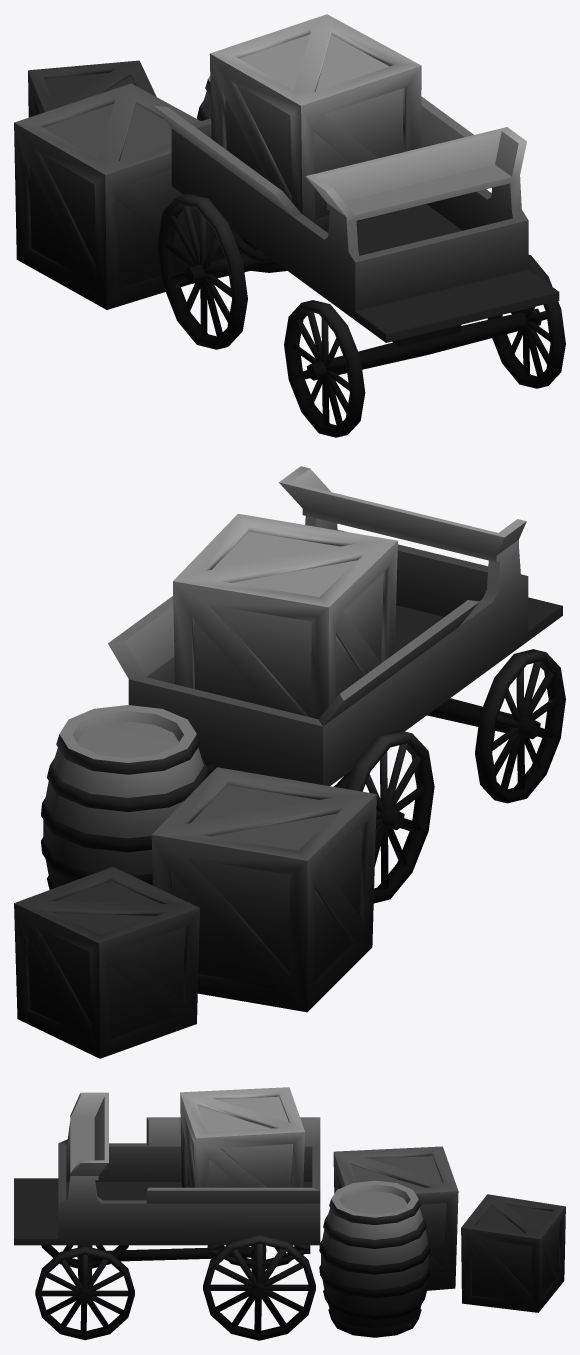
Rendered from Cover7.glb.
3 renders of one model, top to bottom at view 1: azimuth 30°, elevation 25°; view 2: azimuth 150°, elevation 25°; view 3: azimuth 270°, elevation 25°, orthographic. The views are drawn at different scales.
Parts seen in each view (by area): view 1: Cover7; view 2: Cover7; view 3: Cover7.
Boxes of the visible parts, x1,y1,x2,y2 form: Cover7: (14,14,565,437); Cover7: (14,466,565,1058); Cover7: (14,1087,565,1340).
Size of what is drawn, in the model's own units: 3.54 by 3.29 by 8.6.
1 material, 1 textured.
